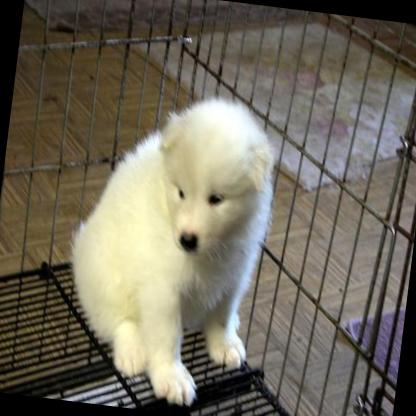Samoyed: (54, 81, 281, 410)
